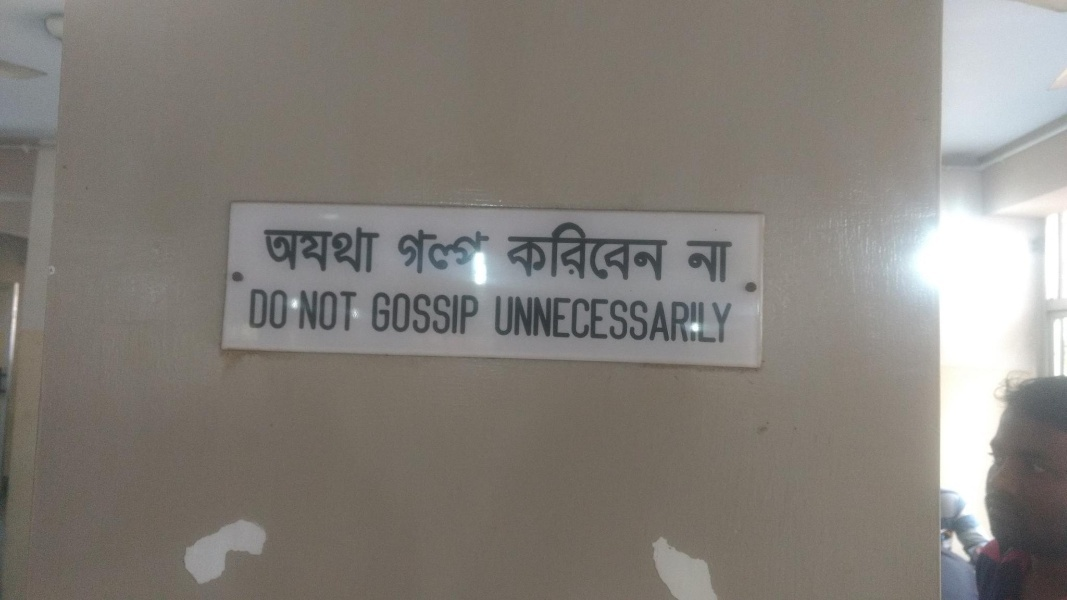text: (513, 222, 528, 283), (529, 222, 544, 283), (545, 222, 560, 283), (561, 222, 576, 283), (577, 222, 592, 283), (593, 222, 608, 283), (609, 222, 624, 283), (625, 222, 640, 283), (641, 222, 656, 283), (497, 295, 512, 346), (513, 295, 528, 346), (529, 295, 544, 346), (545, 295, 560, 346), (561, 295, 576, 346), (577, 295, 592, 346), (593, 295, 608, 346), (609, 295, 624, 346), (625, 295, 640, 346), (641, 295, 656, 346), (657, 295, 672, 346), (673, 295, 688, 346), (689, 295, 704, 346), (705, 295, 720, 346), (273, 224, 288, 274), (289, 224, 304, 274), (305, 224, 320, 274), (321, 224, 336, 274), (337, 224, 352, 274), (353, 224, 368, 274), (401, 230, 416, 279), (417, 230, 432, 279), (433, 230, 448, 279), (449, 230, 464, 279), (465, 230, 480, 279), (657, 222, 669, 283), (689, 239, 704, 284), (705, 239, 720, 284), (385, 291, 400, 336), (401, 291, 416, 336), (417, 291, 432, 336), (433, 291, 448, 336), (449, 291, 464, 336), (465, 291, 480, 336), (273, 288, 289, 330), (721, 295, 734, 346), (369, 224, 382, 274), (481, 230, 494, 279), (257, 288, 272, 330), (305, 291, 320, 333), (321, 291, 336, 333), (337, 291, 352, 333), (372, 291, 384, 336), (721, 239, 732, 284), (265, 224, 272, 274), (508, 222, 512, 283), (300, 291, 304, 333), (353, 291, 357, 333), (253, 288, 256, 330), (481, 291, 483, 336), (399, 230, 400, 279)
